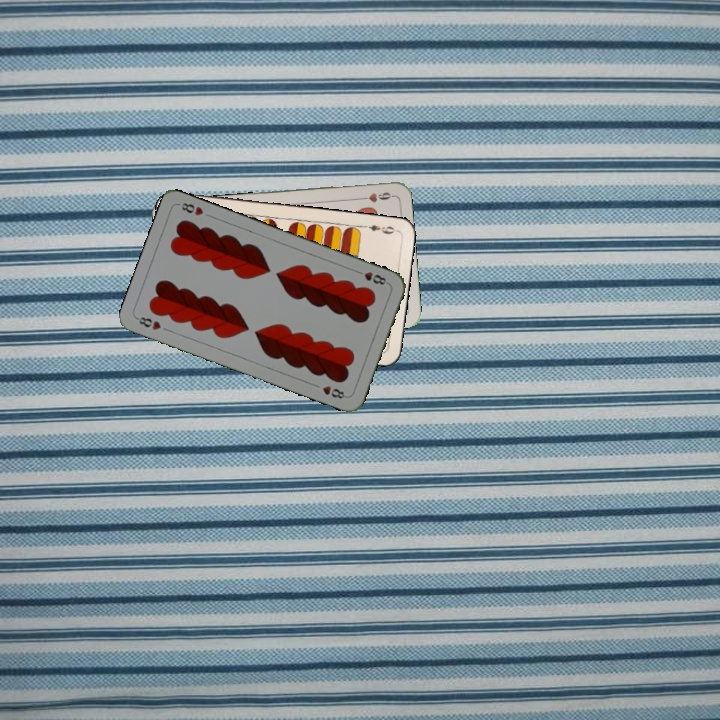E9: (359, 220, 399, 237)
H8: (352, 266, 391, 288), (133, 313, 163, 333)
H9: (355, 188, 395, 205)
